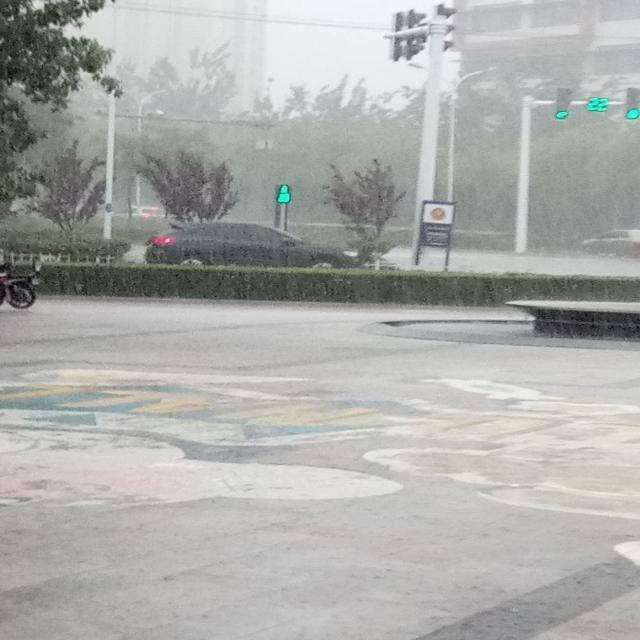car: (144, 220, 362, 270), (578, 228, 640, 254), (112, 205, 172, 219)
